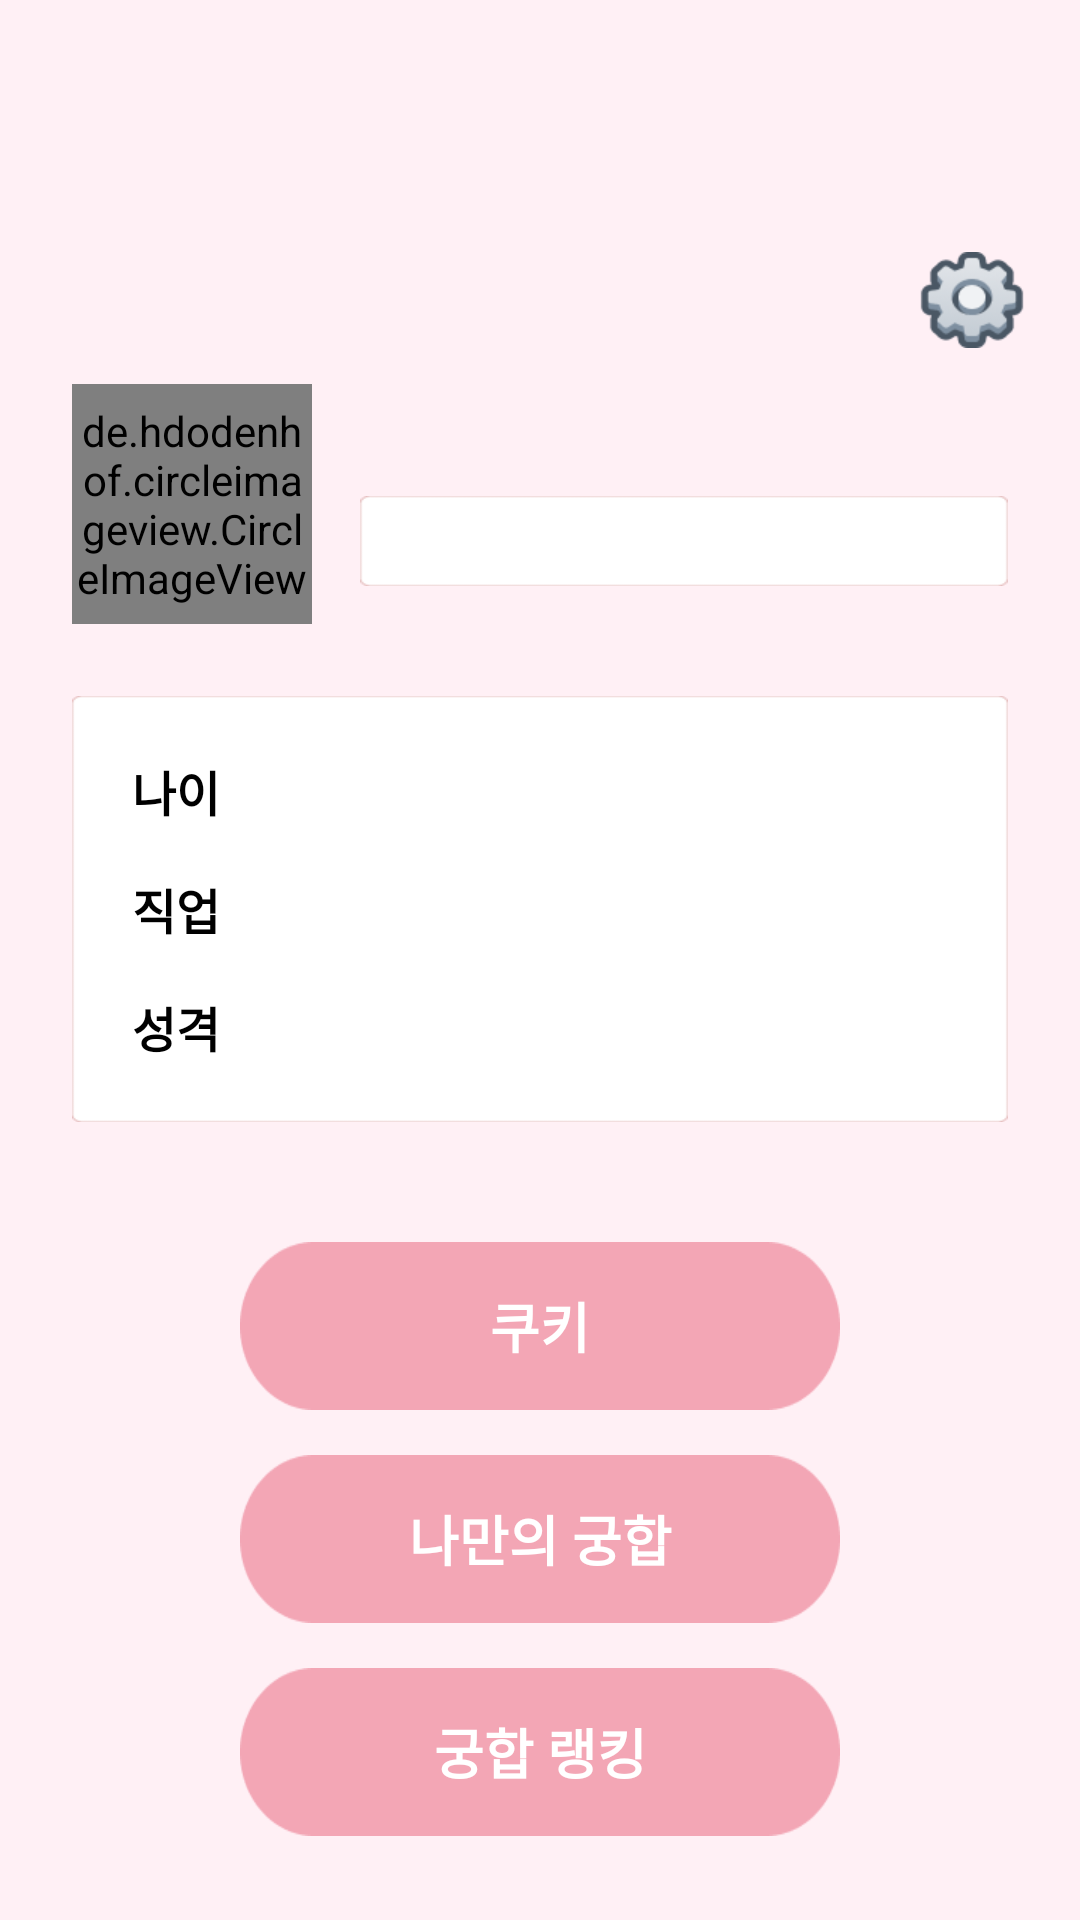

Where to tap for icons on this 1080 × 1920 app screen, as (x,y):
설정: (972,300)
